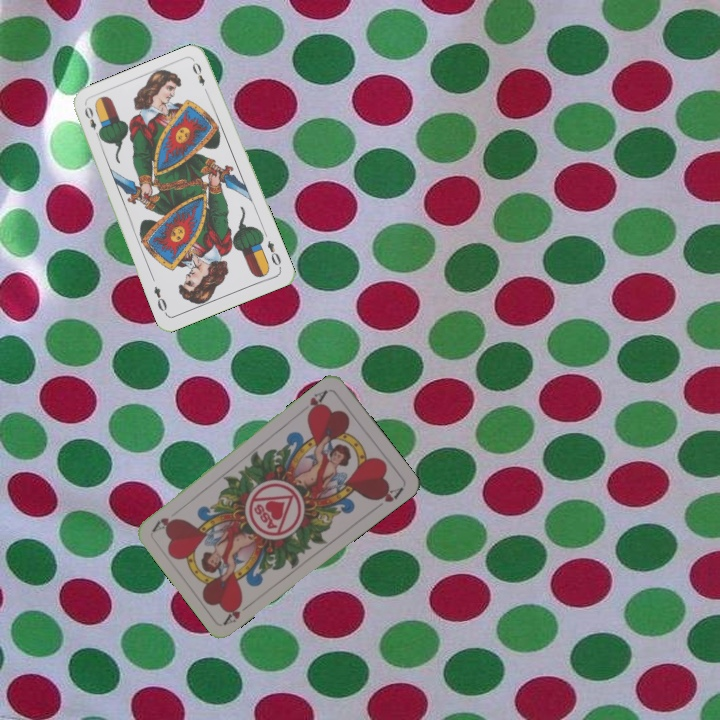EO: (80, 103, 103, 141), (263, 237, 283, 268)
HA: (220, 597, 256, 627), (303, 385, 331, 418)
